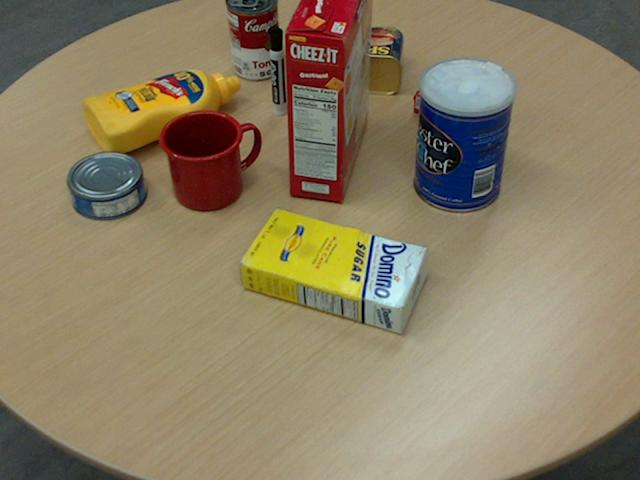cracker_box: (283, 0, 374, 200)
gelatin_box: (414, 62, 497, 127)
large_marker: (269, 24, 286, 113)
master_chef_can: (413, 57, 516, 213)
mug: (158, 108, 259, 209)
mustard_bottle: (82, 67, 241, 152)
potted_meat_can: (325, 23, 405, 93)
sugar_box: (236, 208, 428, 334)
tomato_soup_can: (228, 0, 281, 77)
tuna_fish_can: (66, 149, 146, 217)
